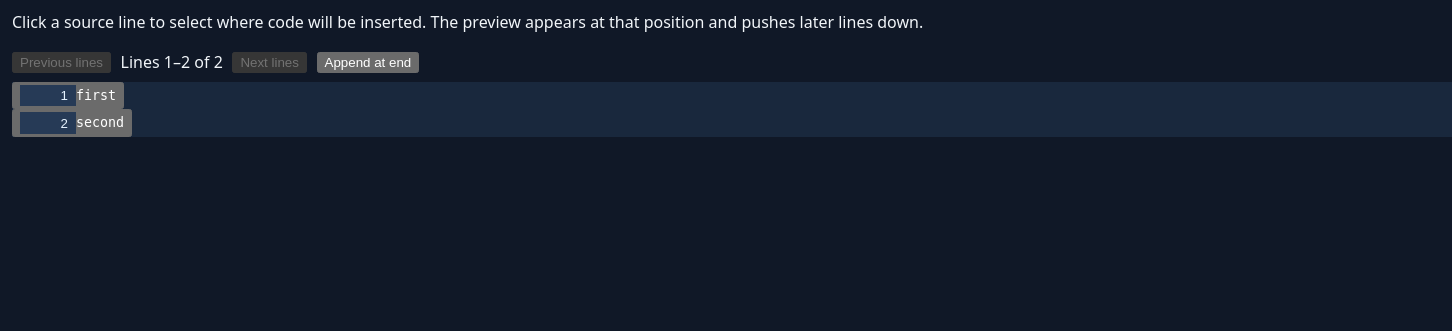
Test case: clicked source rows expose inline insertion preview and the explicit preview action
Click the button with aria-label "Insert before line 2" at (72, 123), box [12,109,132,137]
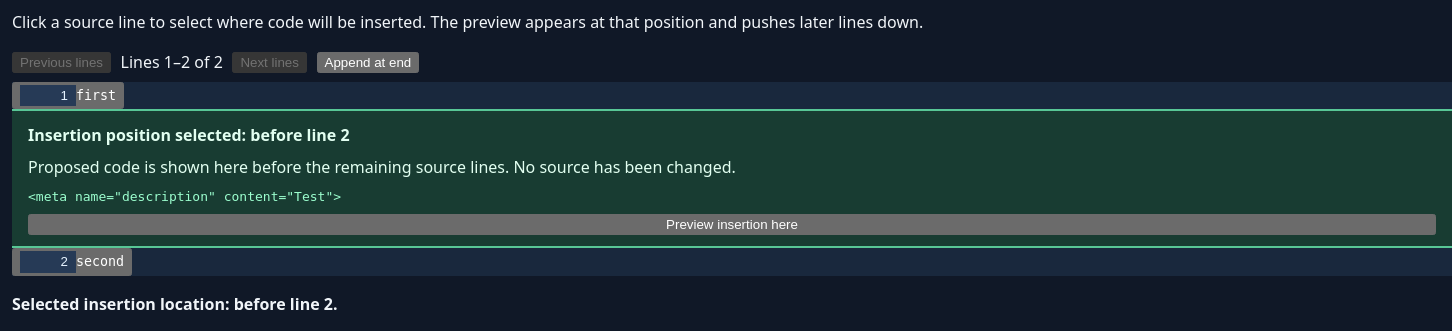
Result: the text "Selected insertion location: before line 2." is shown at [12,293,338,315]
Result: the text named "Inline code insertion preview" shows "description" at [28,189,341,204]
Result: the button "Preview insertion here" is shown at [28,214,1436,235]
